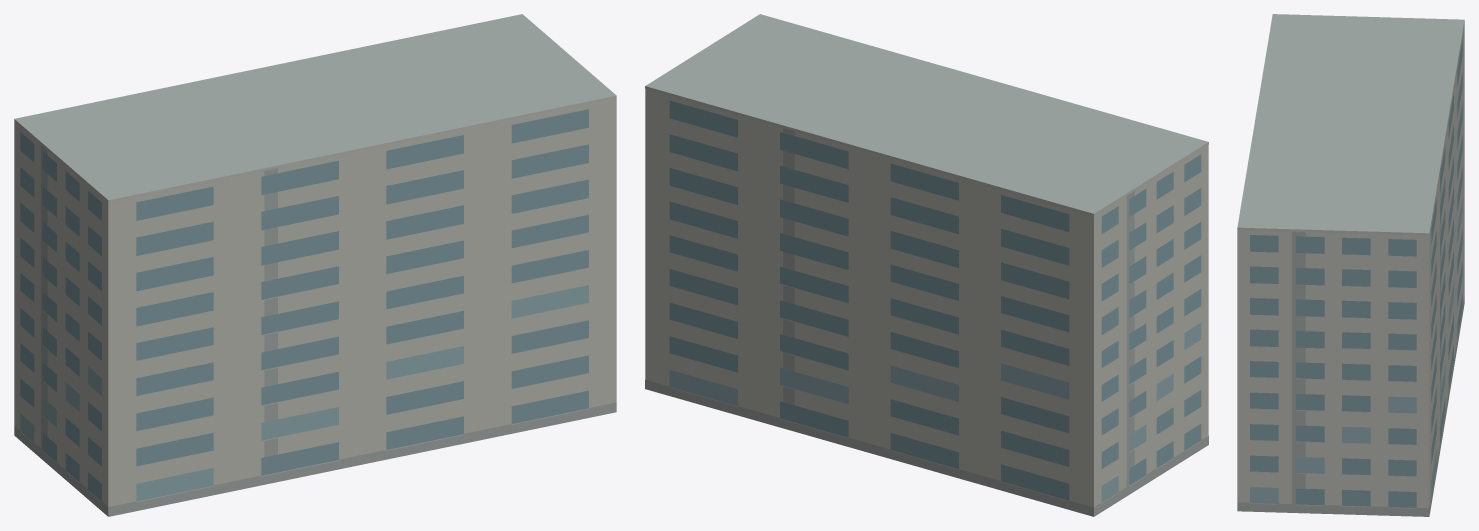
Rendered from residential-a6e4bfa1-e5c5-46d7-b0f2-9153f734a47f.glb.
3 renders of one model, left to right at view 1: azimuth 30°, elevation 25°; view 2: azimuth 150°, elevation 25°; view 3: azimuth 270°, elevation 25°, orthographic. The views are drawn at different scales.
Parts seen in each view (by area): view 1: residential-a6e4bfa1-e5c5-46d7-b0f2-9153f734a47f.tmp; view 2: residential-a6e4bfa1-e5c5-46d7-b0f2-9153f734a47f.tmp; view 3: residential-a6e4bfa1-e5c5-46d7-b0f2-9153f734a47f.tmp.
Part boxes in pixels (x1=…): residential-a6e4bfa1-e5c5-46d7-b0f2-9153f734a47f.tmp: x1=14, y1=14, x2=616, y2=516; residential-a6e4bfa1-e5c5-46d7-b0f2-9153f734a47f.tmp: x1=645, y1=14, x2=1208, y2=516; residential-a6e4bfa1-e5c5-46d7-b0f2-9153f734a47f.tmp: x1=1237, y1=14, x2=1464, y2=516.
Bounding box in the file's own units: 46.42 × 28 × 20.34.
